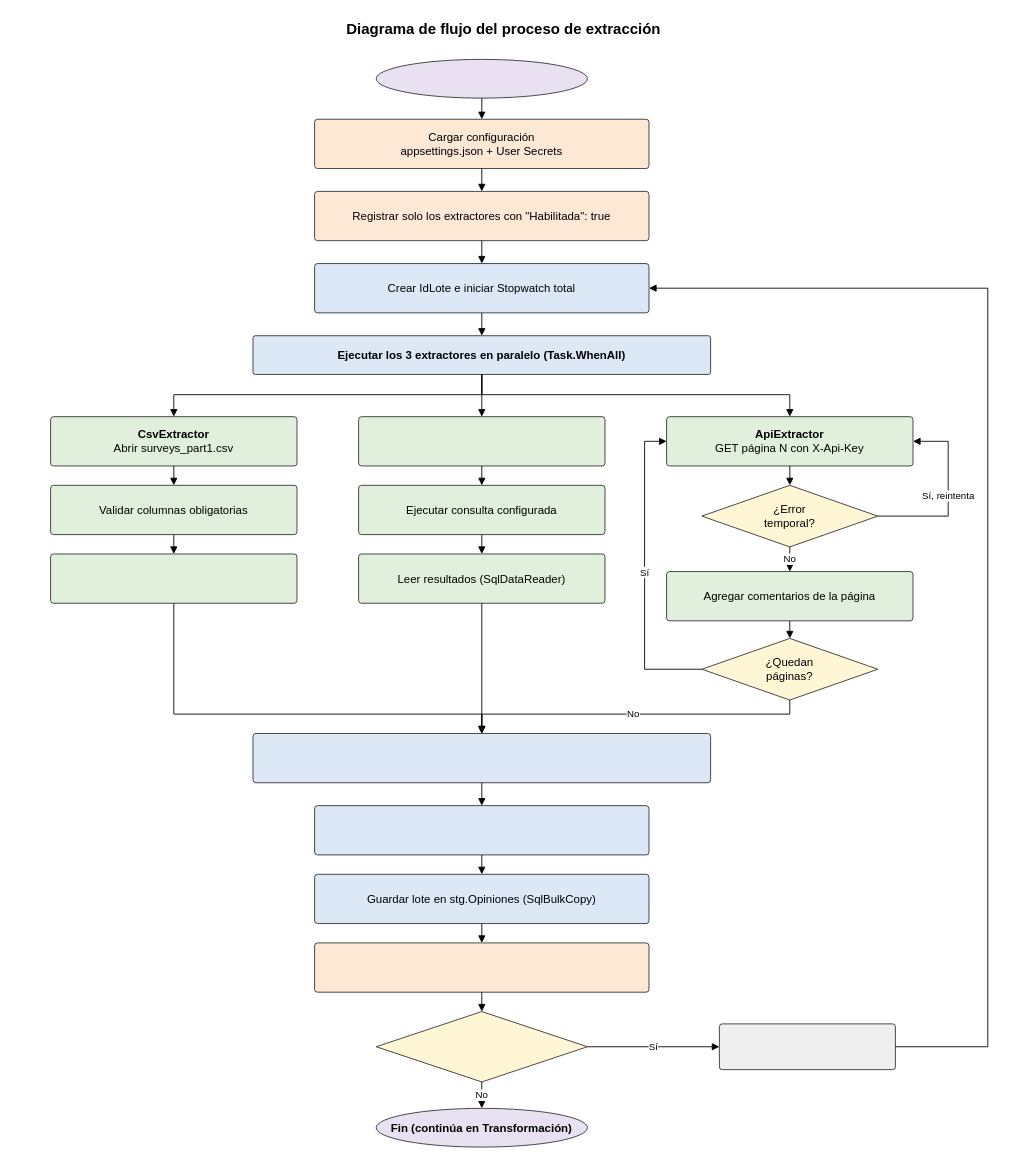
Some shapes in this 1010 by 1162 pixel diagram are drawn without their labels. The shapes that lost their labels are listed below. From the top down, each one's box as (x1, y1, x2, y2) in pixels, then its label:
(375, 59, 587, 98): Inicio del Worker Service
(358, 416, 605, 466): DatabaseExtractor Abrir conexión a ResenasOrigenDB
(50, 553, 297, 603): Leer fila por fila (CsvHelper) Omitir filas sin IdOpinion
(252, 733, 711, 783): Unir resultados Si una fuente falla: se registra el error y las demás continúan
(314, 805, 649, 855): Guardar lote en archivo JSON (data/staging)
(314, 942, 649, 992): Registrar resumen: registros y tiempo por fuente (ILogger)
(375, 1011, 587, 1082): ¿IntervaloMinutos > 0?
(719, 1023, 895, 1070): Esperar el intervalo
